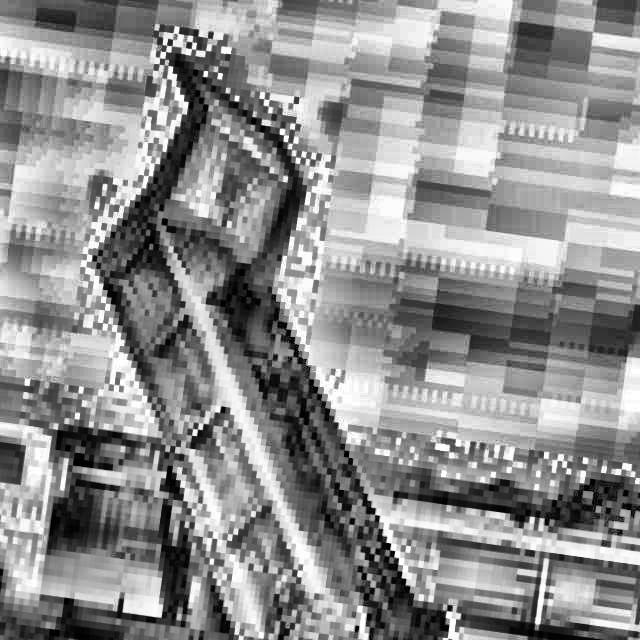dump_truck: (0, 25, 536, 640)
